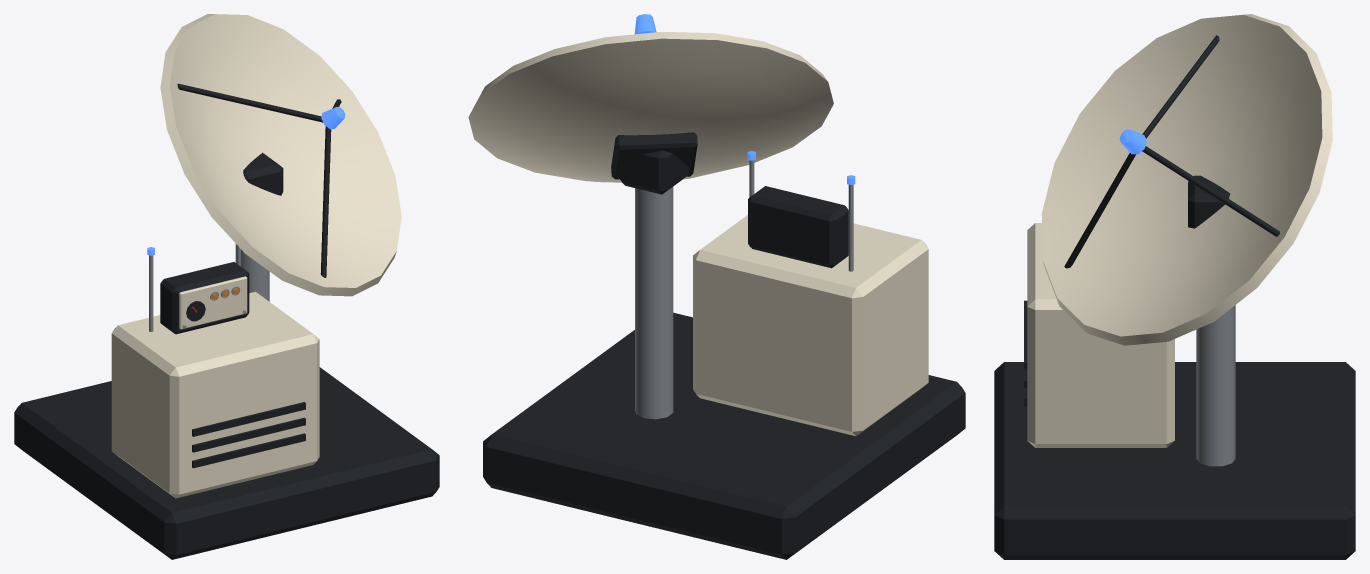
Rendered from transmitter.glb.
The picture shows the model from 3 angles, left to right: view 1: azimuth 30°, elevation 25°; view 2: azimuth 150°, elevation 25°; view 3: azimuth 270°, elevation 25°; orthographic projection. The views are drawn at different scales.
Parts seen in each view (by area): view 1: transmitter_mesh; view 2: transmitter_mesh; view 3: transmitter_mesh.
Boxes of the visible parts, bbox=[...] form: transmitter_mesh: bbox=[14, 14, 439, 559]; transmitter_mesh: bbox=[468, 14, 965, 559]; transmitter_mesh: bbox=[994, 14, 1355, 559].
Size of the model in its own units: 2.57 by 3.13 by 2.2.
